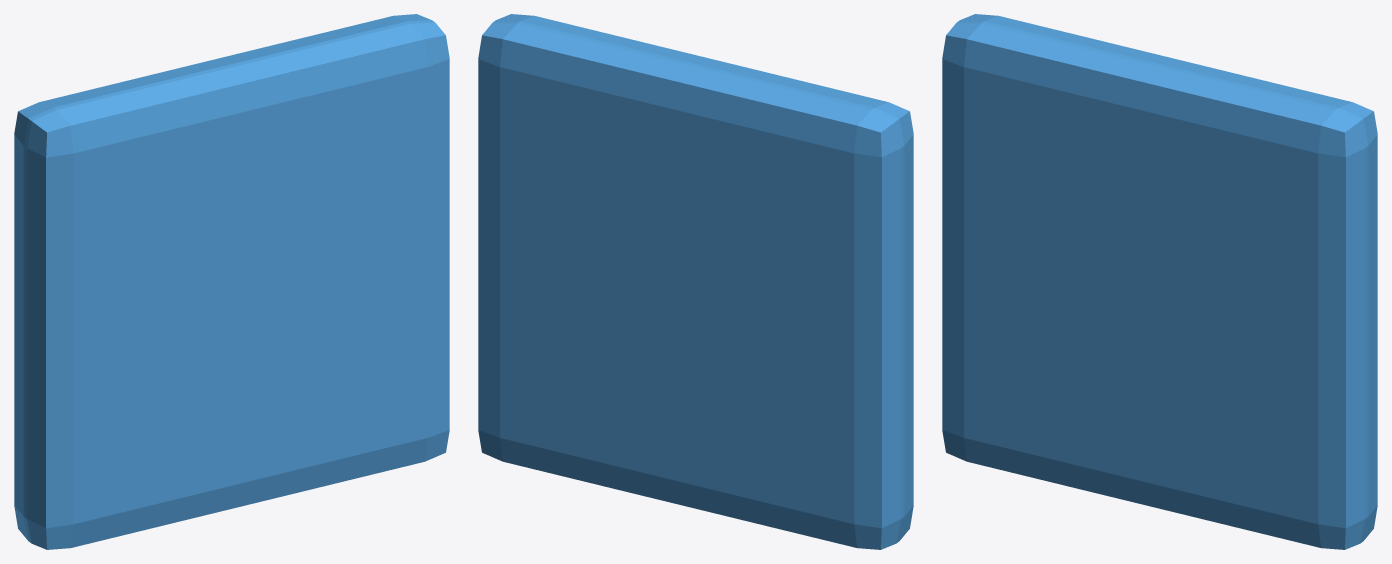
The model's file is back__rear_core__compact_core.glb.
3 renders of one model, left to right at view 1: azimuth 30°, elevation 25°; view 2: azimuth 150°, elevation 25°; view 3: azimuth 330°, elevation 25°, orthographic.
Parts seen in each view (by area): view 1: armor_topping_back_rear_core_compact_core_v001_v001; view 2: armor_topping_back_rear_core_compact_core_v001_v001; view 3: armor_topping_back_rear_core_compact_core_v001_v001.
Boxes of the visible parts, x1=… form: armor_topping_back_rear_core_compact_core_v001_v001: x1=14, y1=14, x2=449, y2=549; armor_topping_back_rear_core_compact_core_v001_v001: x1=478, y1=14, x2=913, y2=549; armor_topping_back_rear_core_compact_core_v001_v001: x1=942, y1=14, x2=1377, y2=549.
Size of the model in its own units: 0.14 by 0.14 by 0.022.
